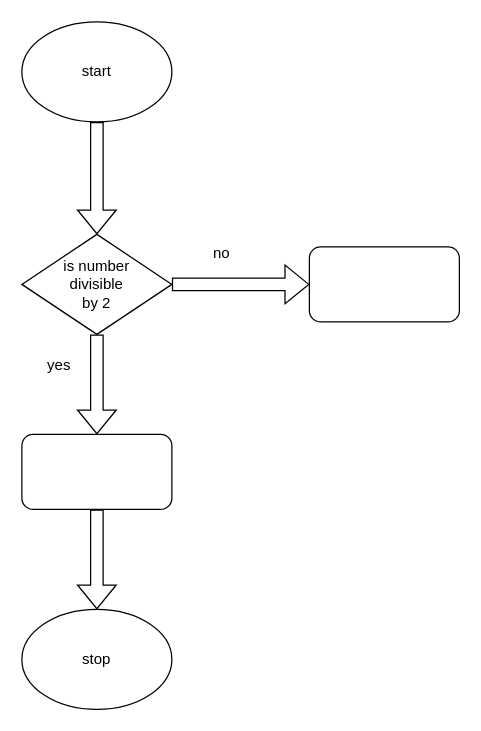
Image size: 481x731. Some labels were removed from this diagram. The shapes that lost their labels are listed below. From the top down, each one's centre as x and y in pixels, then its label:
At [383,284]: "then the number is odd number".
At [96,471]: "the number is a even number".
